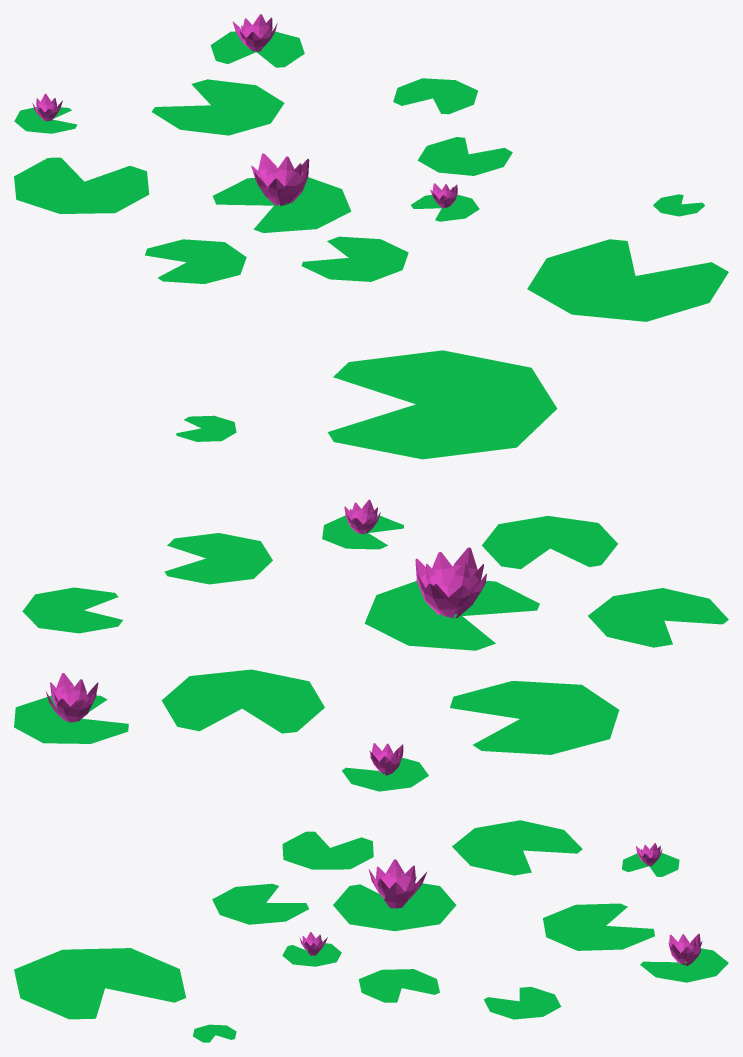
File: MNOGO KUVSHINKA.fbx
3 views of the same model, one above another, from view 1: azimuth 30°, elevation 25°; view 2: azimuth 150°, elevation 25°; view 3: azimuth 270°, elevation 25° (orthographic). The views are drawn at different scales.
Visible parts, largest first — view 1: mnogo kuvshinka; view 2: mnogo kuvshinka; view 3: mnogo kuvshinka.
Boxes of the visible parts, x1,y1,x2,y2 form: mnogo kuvshinka: (14, 14, 728, 321); mnogo kuvshinka: (14, 350, 728, 791); mnogo kuvshinka: (14, 820, 728, 1042).
Bounding box in the file's own units: 781 × 64.88 × 1060.
